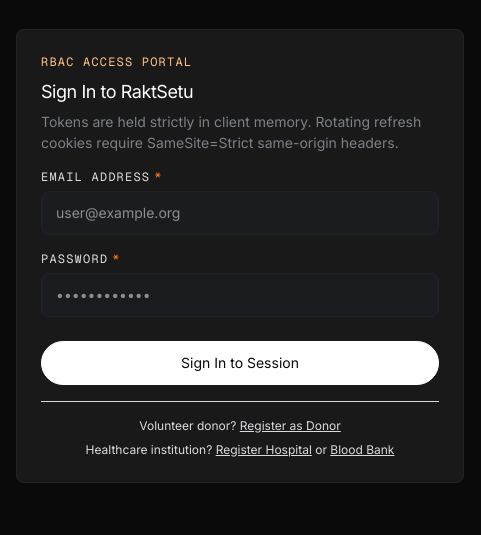
Test: Auth Screens & Form UX Validation › validates login form requiring email format and password
The image size is (481, 535).
What coordinates should you click on to do the following:
click the button "Sign In to Session"
I would click on:
 (240, 363)
Its box is [41,341,439,385].
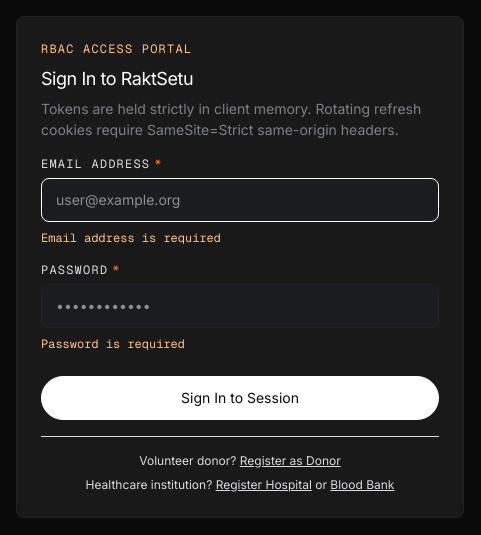
Result: the text "Email address is required" is shown at [41,230,221,246]
Result: the text "Password is required" is shown at [41,336,185,352]
